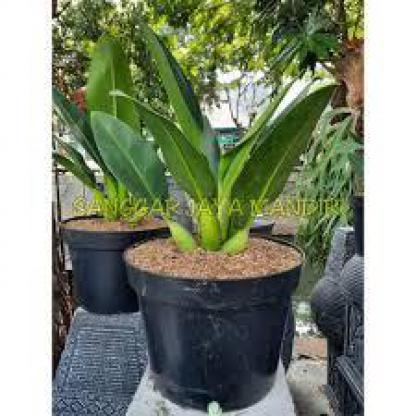Kenanga: (94, 125, 245, 372), (144, 16, 309, 192)
